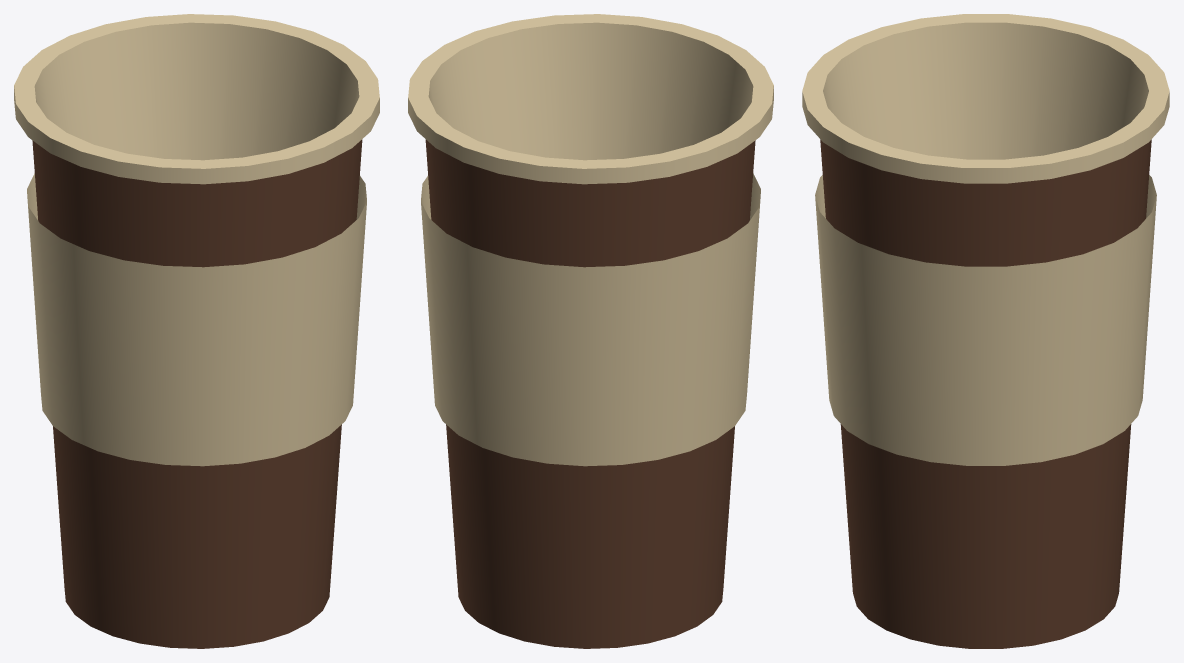
The model's file is CoffeCup_Mesh.fbx.
3 renders of one model, left to right at view 1: azimuth 30°, elevation 25°; view 2: azimuth 150°, elevation 25°; view 3: azimuth 270°, elevation 25°, orthographic.
Parts seen in each view (by area): view 1: Coffe cup.002; view 2: Coffe cup.002; view 3: Coffe cup.002.
Boxes of the visible parts, <box> form: Coffe cup.002: <box>14,14,379,648</box>; Coffe cup.002: <box>408,14,773,648</box>; Coffe cup.002: <box>802,14,1169,648</box>.
Bounding box in the file's own units: 81.48 × 124 × 82.07.
